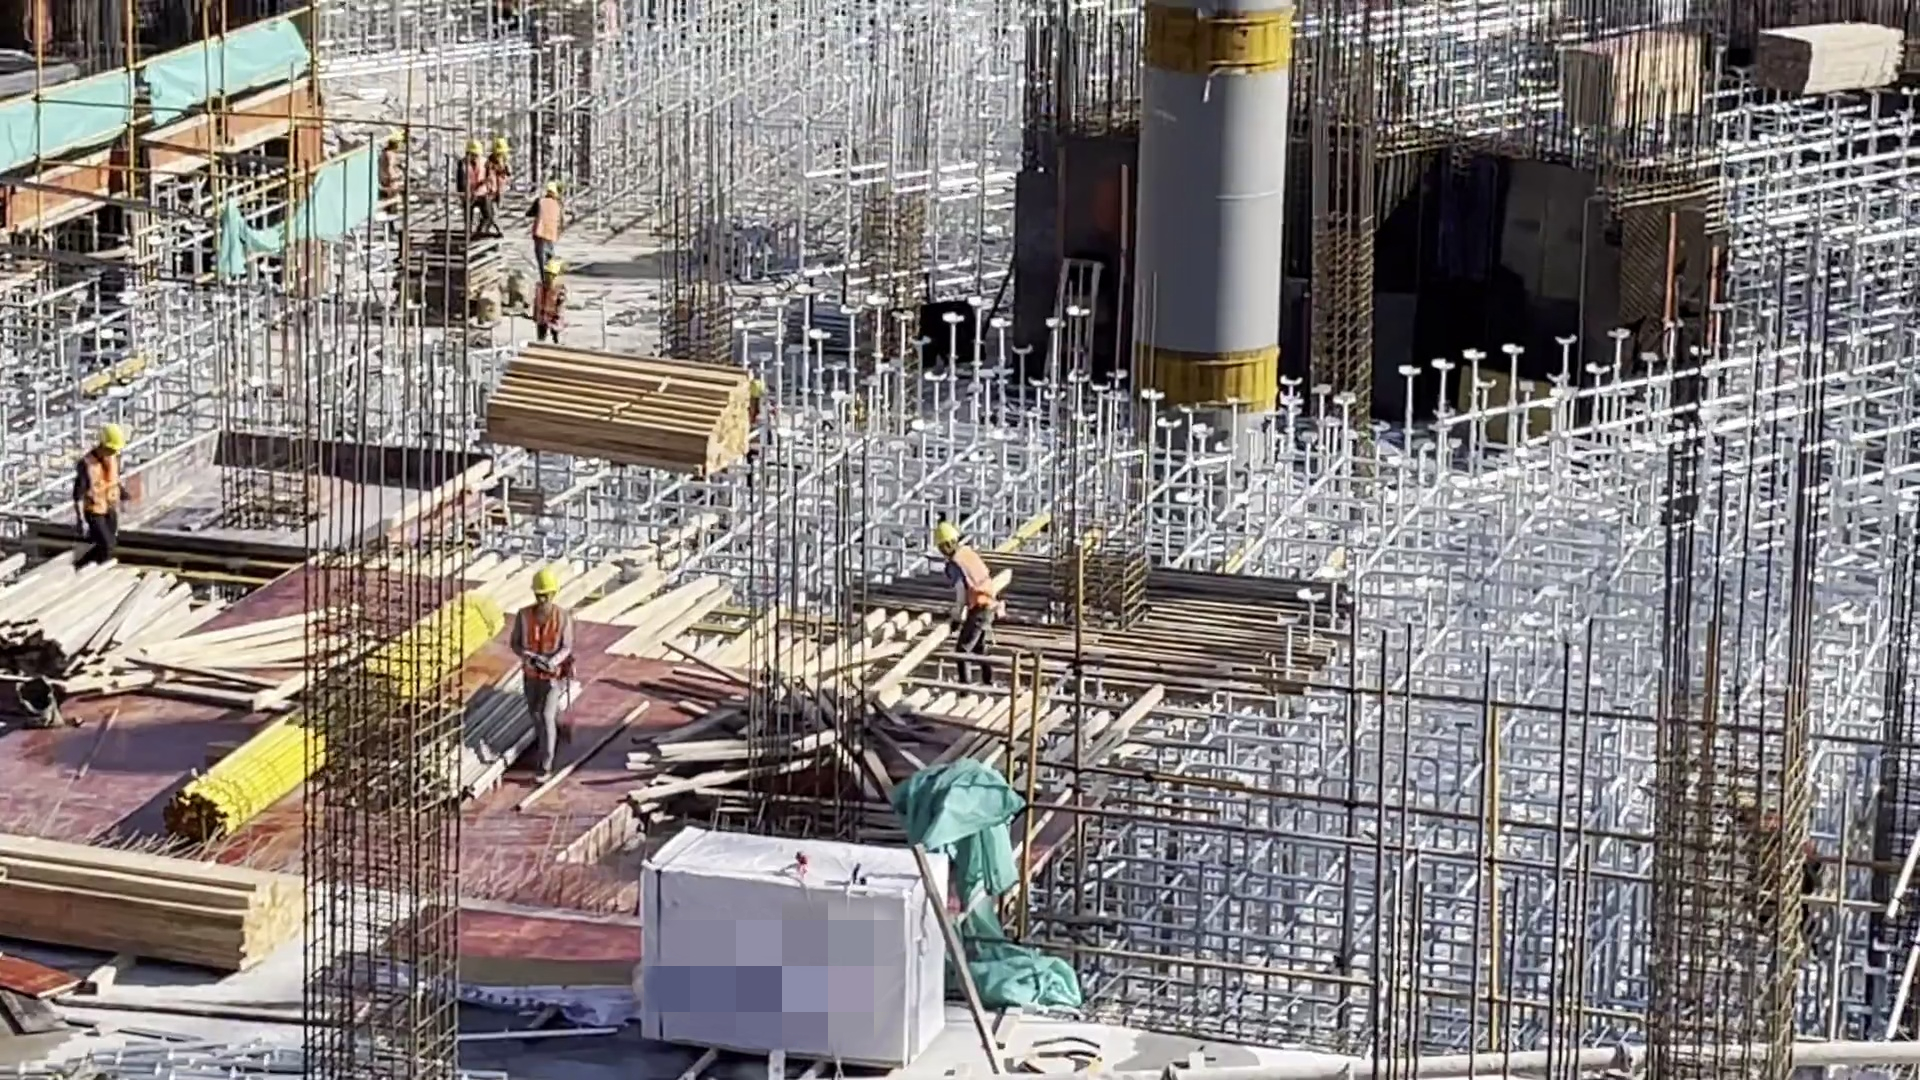helmet: (99, 423, 123, 451), (533, 570, 556, 593), (936, 525, 958, 541), (466, 138, 482, 154), (542, 260, 560, 273), (494, 138, 507, 154)
person: (516, 576, 569, 784), (935, 524, 997, 692), (82, 424, 123, 562), (456, 138, 493, 241), (533, 261, 569, 349), (525, 187, 562, 265), (490, 139, 511, 231)
vest: (517, 603, 563, 683), (947, 545, 993, 618), (74, 454, 123, 518), (533, 189, 561, 242), (458, 157, 489, 199), (538, 285, 561, 329)
wood: (494, 339, 758, 489), (1, 851, 300, 973)
